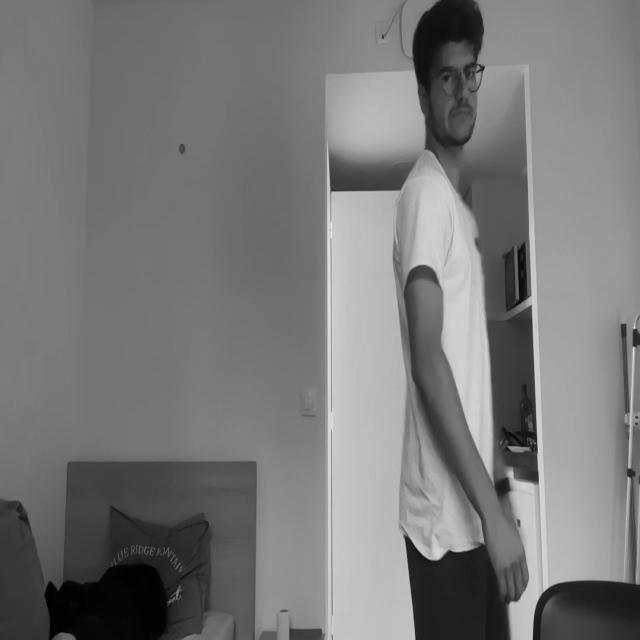elbow: (410, 340, 443, 396)
hand: (481, 504, 531, 603)
shoulder: (399, 175, 450, 262)
